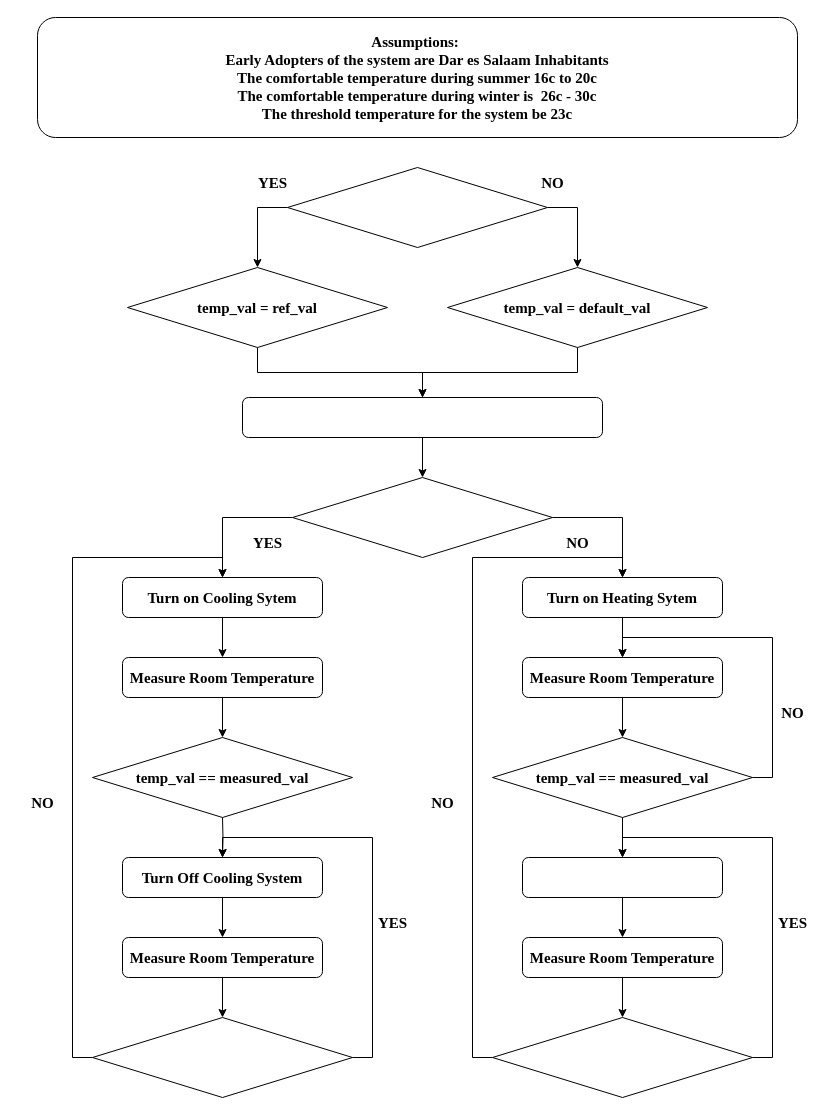
This 834x1115 diagram has some shape labels left out. Here are the shapes that lost their labels. From the top down, the centre of each, then its label:
At point 417,207: "User Reference Temperature Exist?".
At point 422,417: "Measure the temperature and humidity of a room".
At point 422,517: "room_temp > th_ temp".
At point 622,877: "Turn Off Heating System".
At point 222,1057: "temp_val < measured_val".
At point 622,1057: "temp_val > measured_val".
